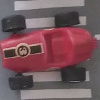carro: (1, 13, 96, 88)
